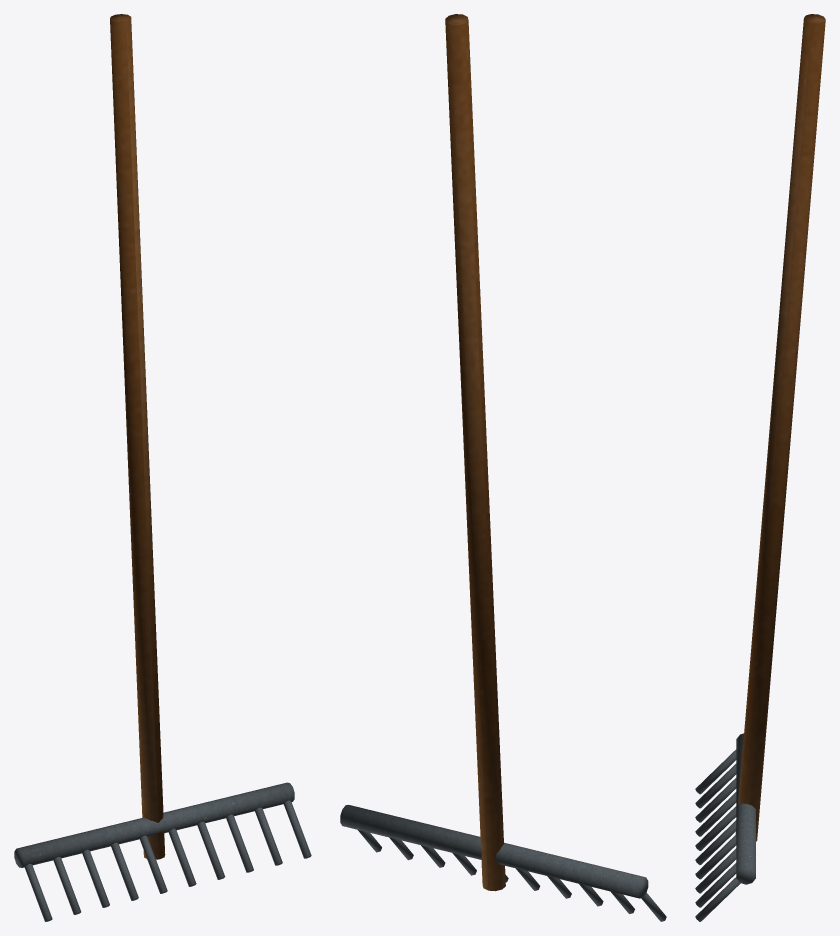
File: Prop_Rake.gltf
3 views of the same model, side by side, from view 1: azimuth 30°, elevation 25°; view 2: azimuth 150°, elevation 25°; view 3: azimuth 270°, elevation 25° (orthographic). The views are drawn at different scales.
Parts seen in each view (by area): view 1: Prop_Rake__Body; view 2: Prop_Rake__Body; view 3: Prop_Rake__Body.
Boxes of the visible parts, x1=… form: Prop_Rake__Body: x1=14, y1=14, x2=311, y2=921; Prop_Rake__Body: x1=340, y1=14, x2=666, y2=921; Prop_Rake__Body: x1=695, y1=14, x2=825, y2=921.
Bounding box in the file's own units: 0.46 × 1.35 × 0.1903.
1 material, 1 textured.
